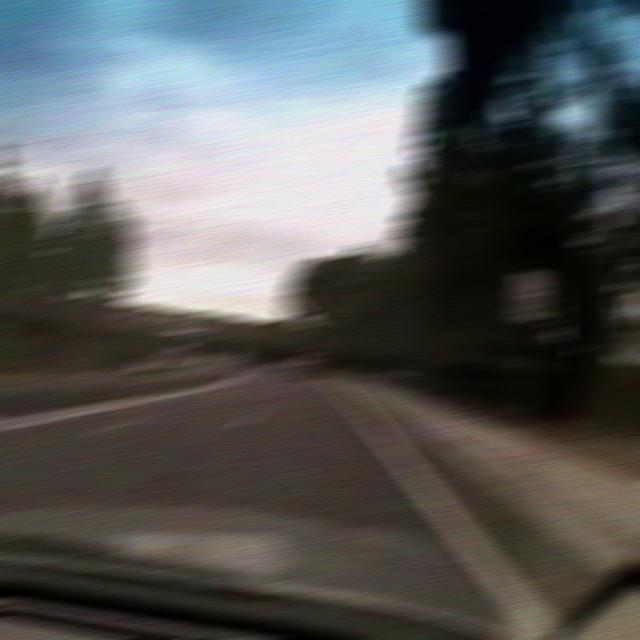speedLimit50: (509, 269, 552, 320)
